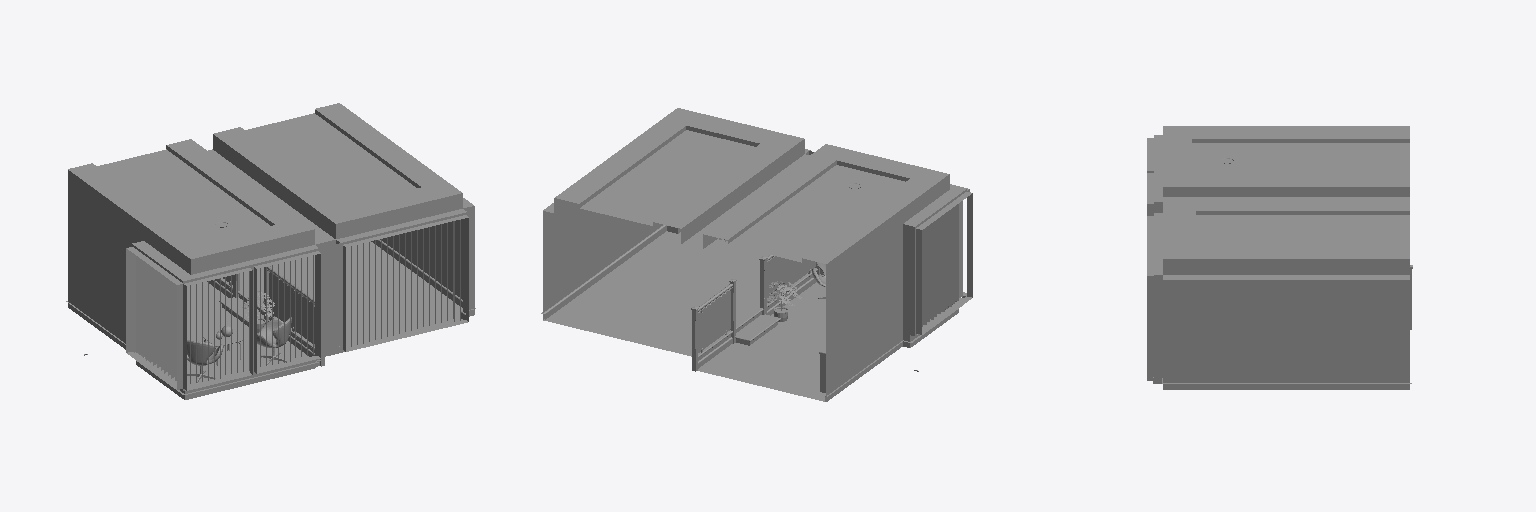
Rendered from room.obj.
3 renders of one model, left to right at view 1: azimuth 30°, elevation 25°; view 2: azimuth 150°, elevation 25°; view 3: azimuth 270°, elevation 25°, orthographic.
Visible parts, largest first — view 1: Room_Plane, Window_Frames_Cube, Blinds_-_Side_Plane.003, Blinds_-_Right_Plane.002, Blinds_-_Left_Plane.005, Carpet_Plane.001, Glass_Balustrade_Plane.004, Skirting_Cube.002, Chair_Left_Cube.011, Chair_Right_Cube.004; view 2: Room_Plane, Blinds_-_Side_Plane.003, Glass_Balustrade_Plane.004, Window_Frames_Cube, Skirting_Cube.002, Newel_Posts_Cube.009, Carpet_Plane.001, Nosings_Cube.014; view 3: Room_Plane, Window_Frames_Cube.
Boxes of the visible parts, box(x1,y1,x2,y2) form: Room_Plane: box(68, 103, 474, 399); Window_Frames_Cube: box(126, 212, 468, 390); Blinds_-_Side_Plane.003: box(136, 256, 176, 380); Blinds_-_Right_Plane.002: box(190, 255, 313, 383); Blinds_-_Left_Plane.005: box(351, 220, 460, 346); Carpet_Plane.001: box(152, 339, 299, 386); Glass_Balustrade_Plane.004: box(223, 273, 314, 343); Skirting_Cube.002: box(66, 239, 475, 399); Chair_Left_Cube.011: box(257, 317, 291, 365); Chair_Right_Cube.004: box(187, 340, 223, 383); Room_Plane: box(543, 108, 965, 401); Blinds_-_Side_Plane.003: box(922, 204, 958, 326); Glass_Balustrade_Plane.004: box(698, 256, 815, 352); Window_Frames_Cube: box(724, 149, 972, 335); Skirting_Cube.002: box(541, 225, 961, 401); Newel_Posts_Cube.009: box(691, 256, 819, 371); Carpet_Plane.001: box(788, 287, 937, 325); Nosings_Cube.014: box(698, 268, 817, 357); Room_Plane: box(1154, 126, 1409, 389); Window_Frames_Cube: box(1147, 135, 1162, 380).
Size of the model in its own units: 16.3 by 6.68 by 11.6.